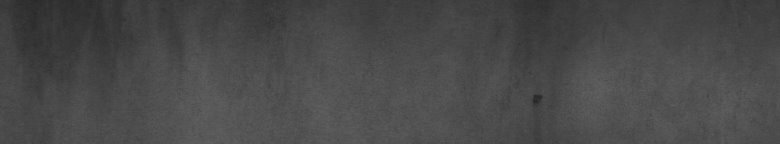fi: (529, 90, 547, 108)
